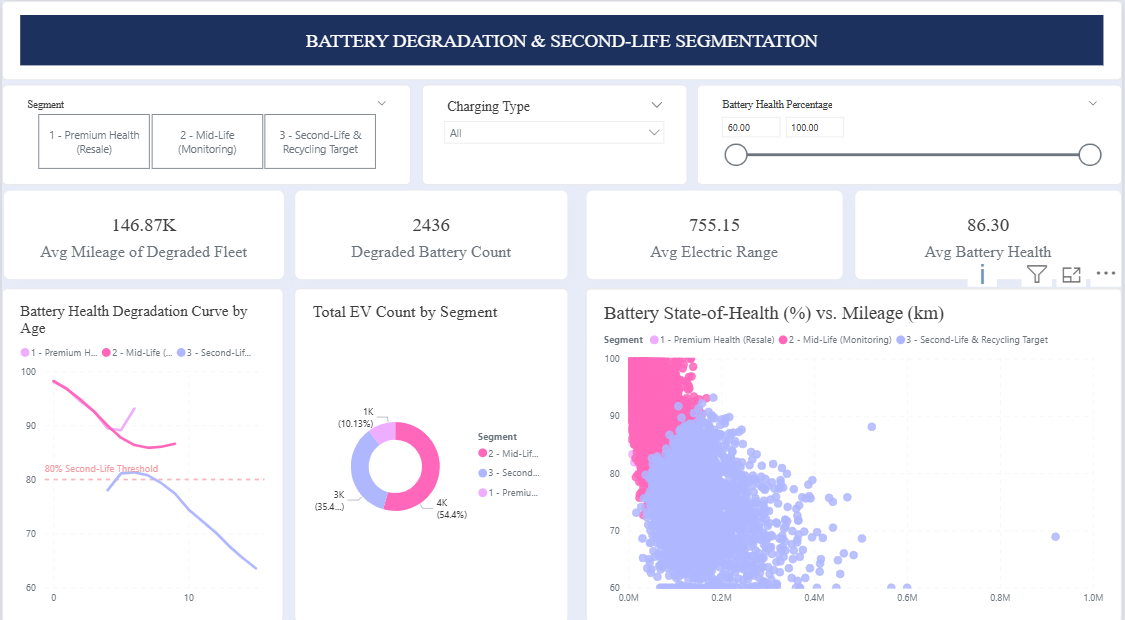

The dashboard page shown, as its layout file describes it:
{"tool":"powerbi","page":{"name":"Battery Degradation & Second-Life Segmentation","canvas":[1280,720],"ordinal":1},"visuals":[{"type":"slicer","fields":{"Values":["ev_cars_with_clusters.Segment"]},"box":[0,95.7,467.1,114.3],"z":0},{"type":"slicer","fields":{"Values":["ev_cars_with_clusters.charging_type"]},"box":[480,95.7,302.9,114.3],"z":1000},{"type":"slicer","fields":{"Values":["ev_cars_with_clusters.battery_health_percent"]},"box":[794.3,95.7,485.7,114.3],"z":2000},{"type":"card","fields":{"Values":["ev_cars_with_clusters.Avg Battery Health"]},"box":[974.3,215.7,305.7,102.9],"z":3000},{"type":"card","fields":{"Values":["ev_cars_with_clusters.Avg Mileage of Degraded Fleet"]},"box":[1.4,215.7,321.4,102.9],"z":4000},{"type":"card","fields":{"Values":["ev_cars_with_clusters.Avg Electric Range"]},"box":[667.1,215.7,294.3,102.9],"z":5000},{"type":"card","fields":{"Values":["ev_cars_with_clusters.Degraded Battery Count"]},"box":[334.3,215.7,312.9,102.9],"z":6000},{"type":"lineChart","title":"Battery Health Degradation Curve by Age","fields":{"Category":["ev_cars_with_clusters.vehicle_age"],"Y":["ev_cars_with_clusters.Avg Battery Health"],"Series":["ev_cars_with_clusters.Segment"]},"box":[0,328.6,321.4,381.4],"z":7000},{"type":"donutChart","fields":{"Category":["ev_cars_with_clusters.Segment"],"Y":["ev_cars_with_clusters.Total EV Count"]},"box":[334.3,328.6,312.9,381.4],"z":8000},{"type":"scatterChart","title":"Battery State-of-Health (%) vs. Mileage (km)","fields":{"X":["ev_cars_with_clusters.odometer_km"],"Y":["Avg(ev_cars_with_clusters.battery_health_percent)"],"Series":["ev_cars_with_clusters.Segment"]},"box":[667.1,328.6,612.9,381.4],"z":9000},{"type":"shape","box":[0,0,1280,90],"z":9001}]}

Visuals, with their boxes in screenshot pixels (x1, y1, x2, y2), scaled from the page's 1280x720 canvas onto the 1125x620 screenshot:
slicer - ev_cars_with_clusters.Segment: Rect(0, 82, 411, 181)
slicer - ev_cars_with_clusters.charging_type: Rect(422, 82, 688, 181)
slicer - ev_cars_with_clusters.battery_health_percent: Rect(698, 82, 1124, 181)
card - ev_cars_with_clusters.Avg Battery Health: Rect(856, 186, 1124, 274)
card - ev_cars_with_clusters.Avg Mileage of Degraded Fleet: Rect(1, 186, 284, 274)
card - ev_cars_with_clusters.Avg Electric Range: Rect(586, 186, 845, 274)
card - ev_cars_with_clusters.Degraded Battery Count: Rect(294, 186, 569, 274)
"Battery Health Degradation Curve by Age" lineChart: Rect(0, 283, 282, 611)
donutChart - ev_cars_with_clusters.Segment x ev_cars_with_clusters.Total EV Count: Rect(294, 283, 569, 611)
"Battery State-of-Health (%) vs. Mileage (km)" scatterChart: Rect(586, 283, 1124, 611)
shape: Rect(0, 0, 1124, 78)
